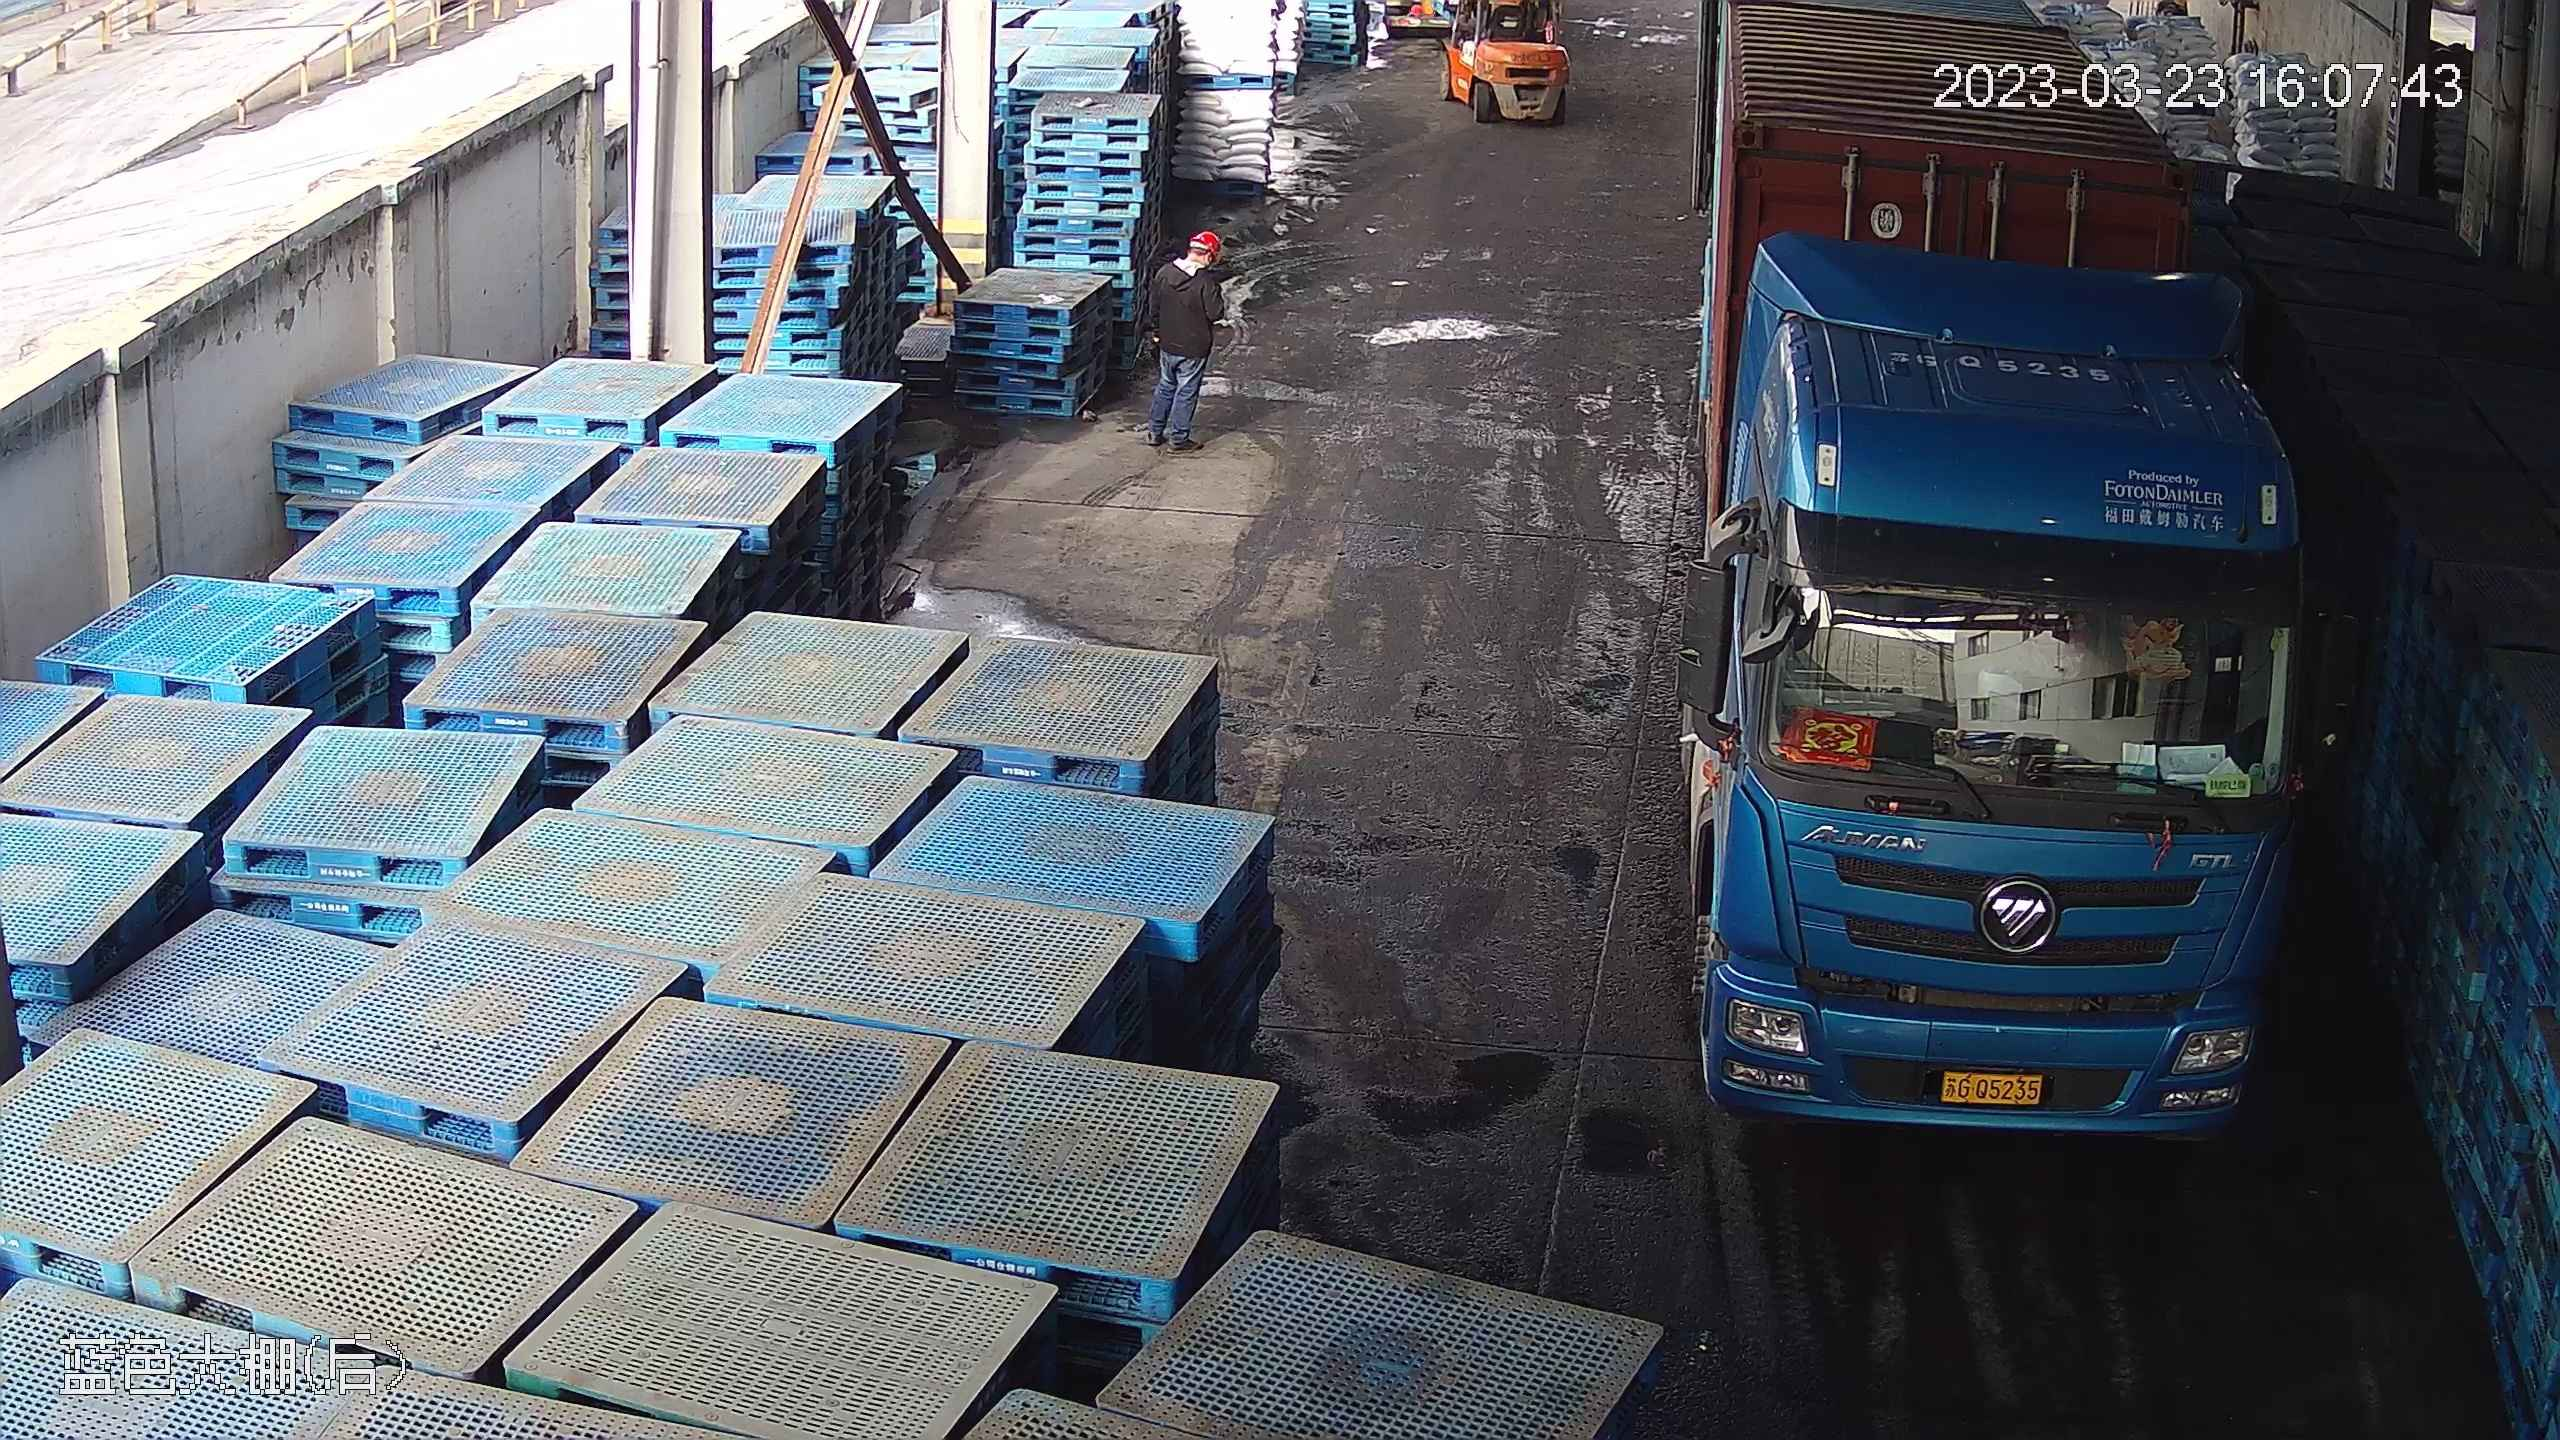head: (1161, 227, 1229, 302)
helmet: (1188, 226, 1225, 255)
people: (1142, 223, 1235, 454)
truck: (1670, 28, 2352, 1140)
